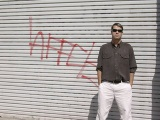male: (104, 19, 131, 48)
